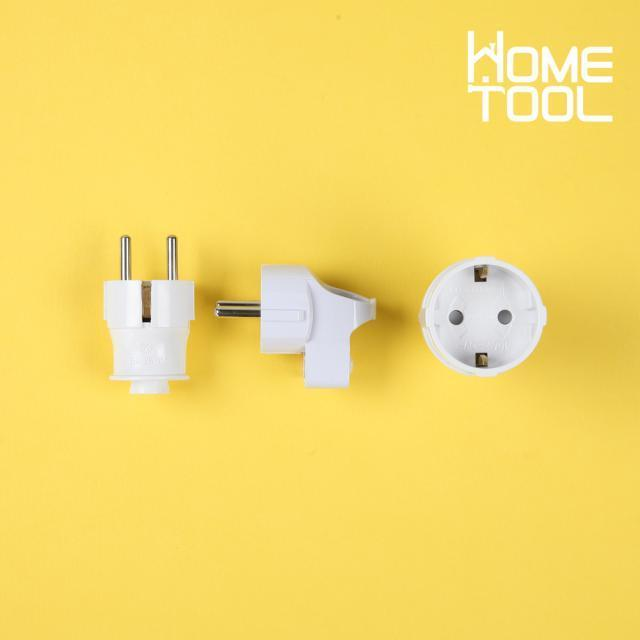typeb: (393, 219, 577, 406)
